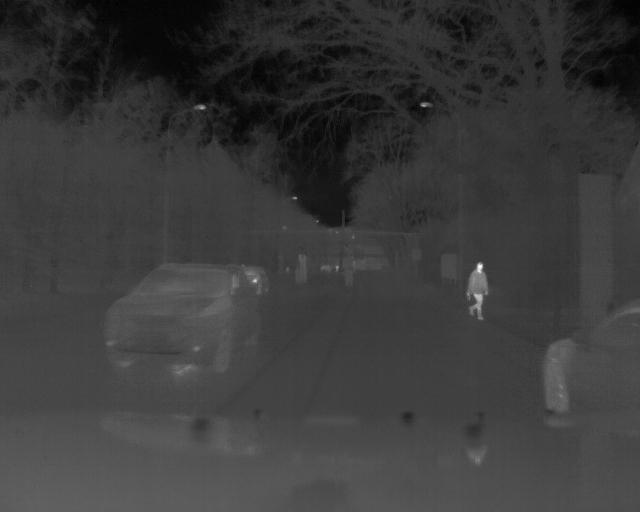car: (99, 263, 263, 374), (542, 290, 640, 412)
person: (464, 258, 488, 322)
